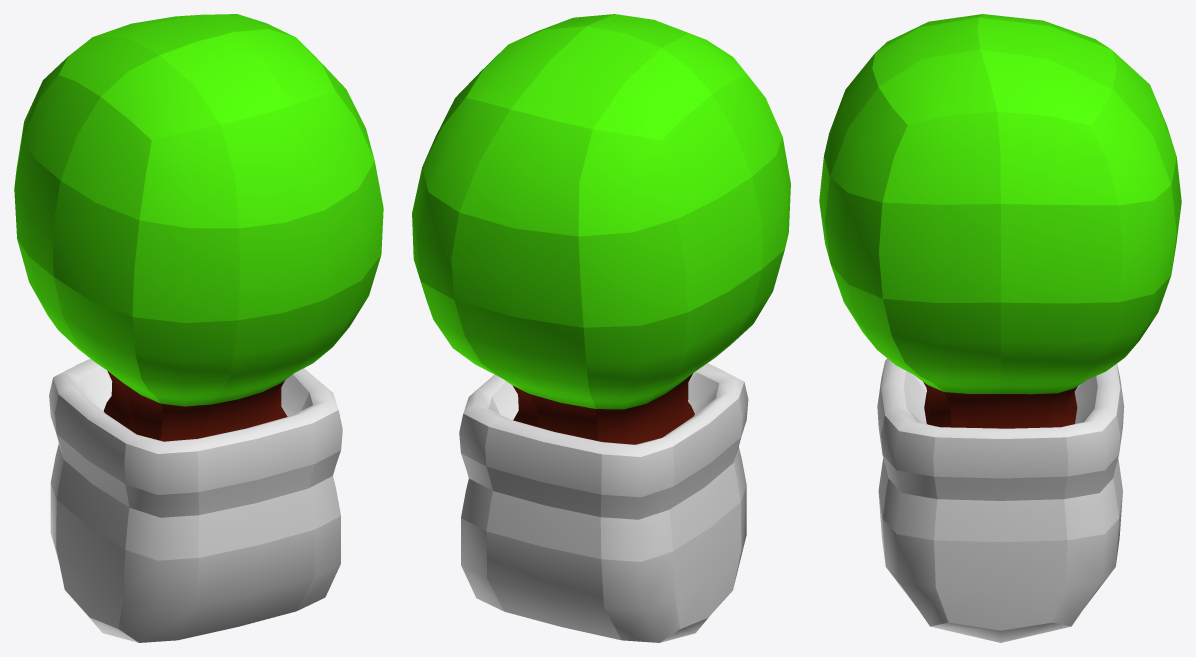
Rendered from New Hedge3.fbx.
3 renders of one model, left to right at view 1: azimuth 30°, elevation 25°; view 2: azimuth 150°, elevation 25°; view 3: azimuth 270°, elevation 25°, orthographic. The views are drawn at different scales.
Parts seen in each view (by area): view 1: SM_Env_Hedge_03; view 2: SM_Env_Hedge_03; view 3: SM_Env_Hedge_03.
Boxes of the visible parts, bbox=[...] form: SM_Env_Hedge_03: bbox=[14, 14, 383, 642]; SM_Env_Hedge_03: bbox=[412, 14, 790, 642]; SM_Env_Hedge_03: bbox=[819, 14, 1181, 642].
Bounding box in the file's own units: 137 × 251 × 146.
